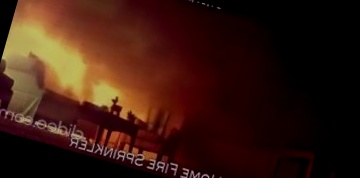fire: (0, 0, 194, 136)
